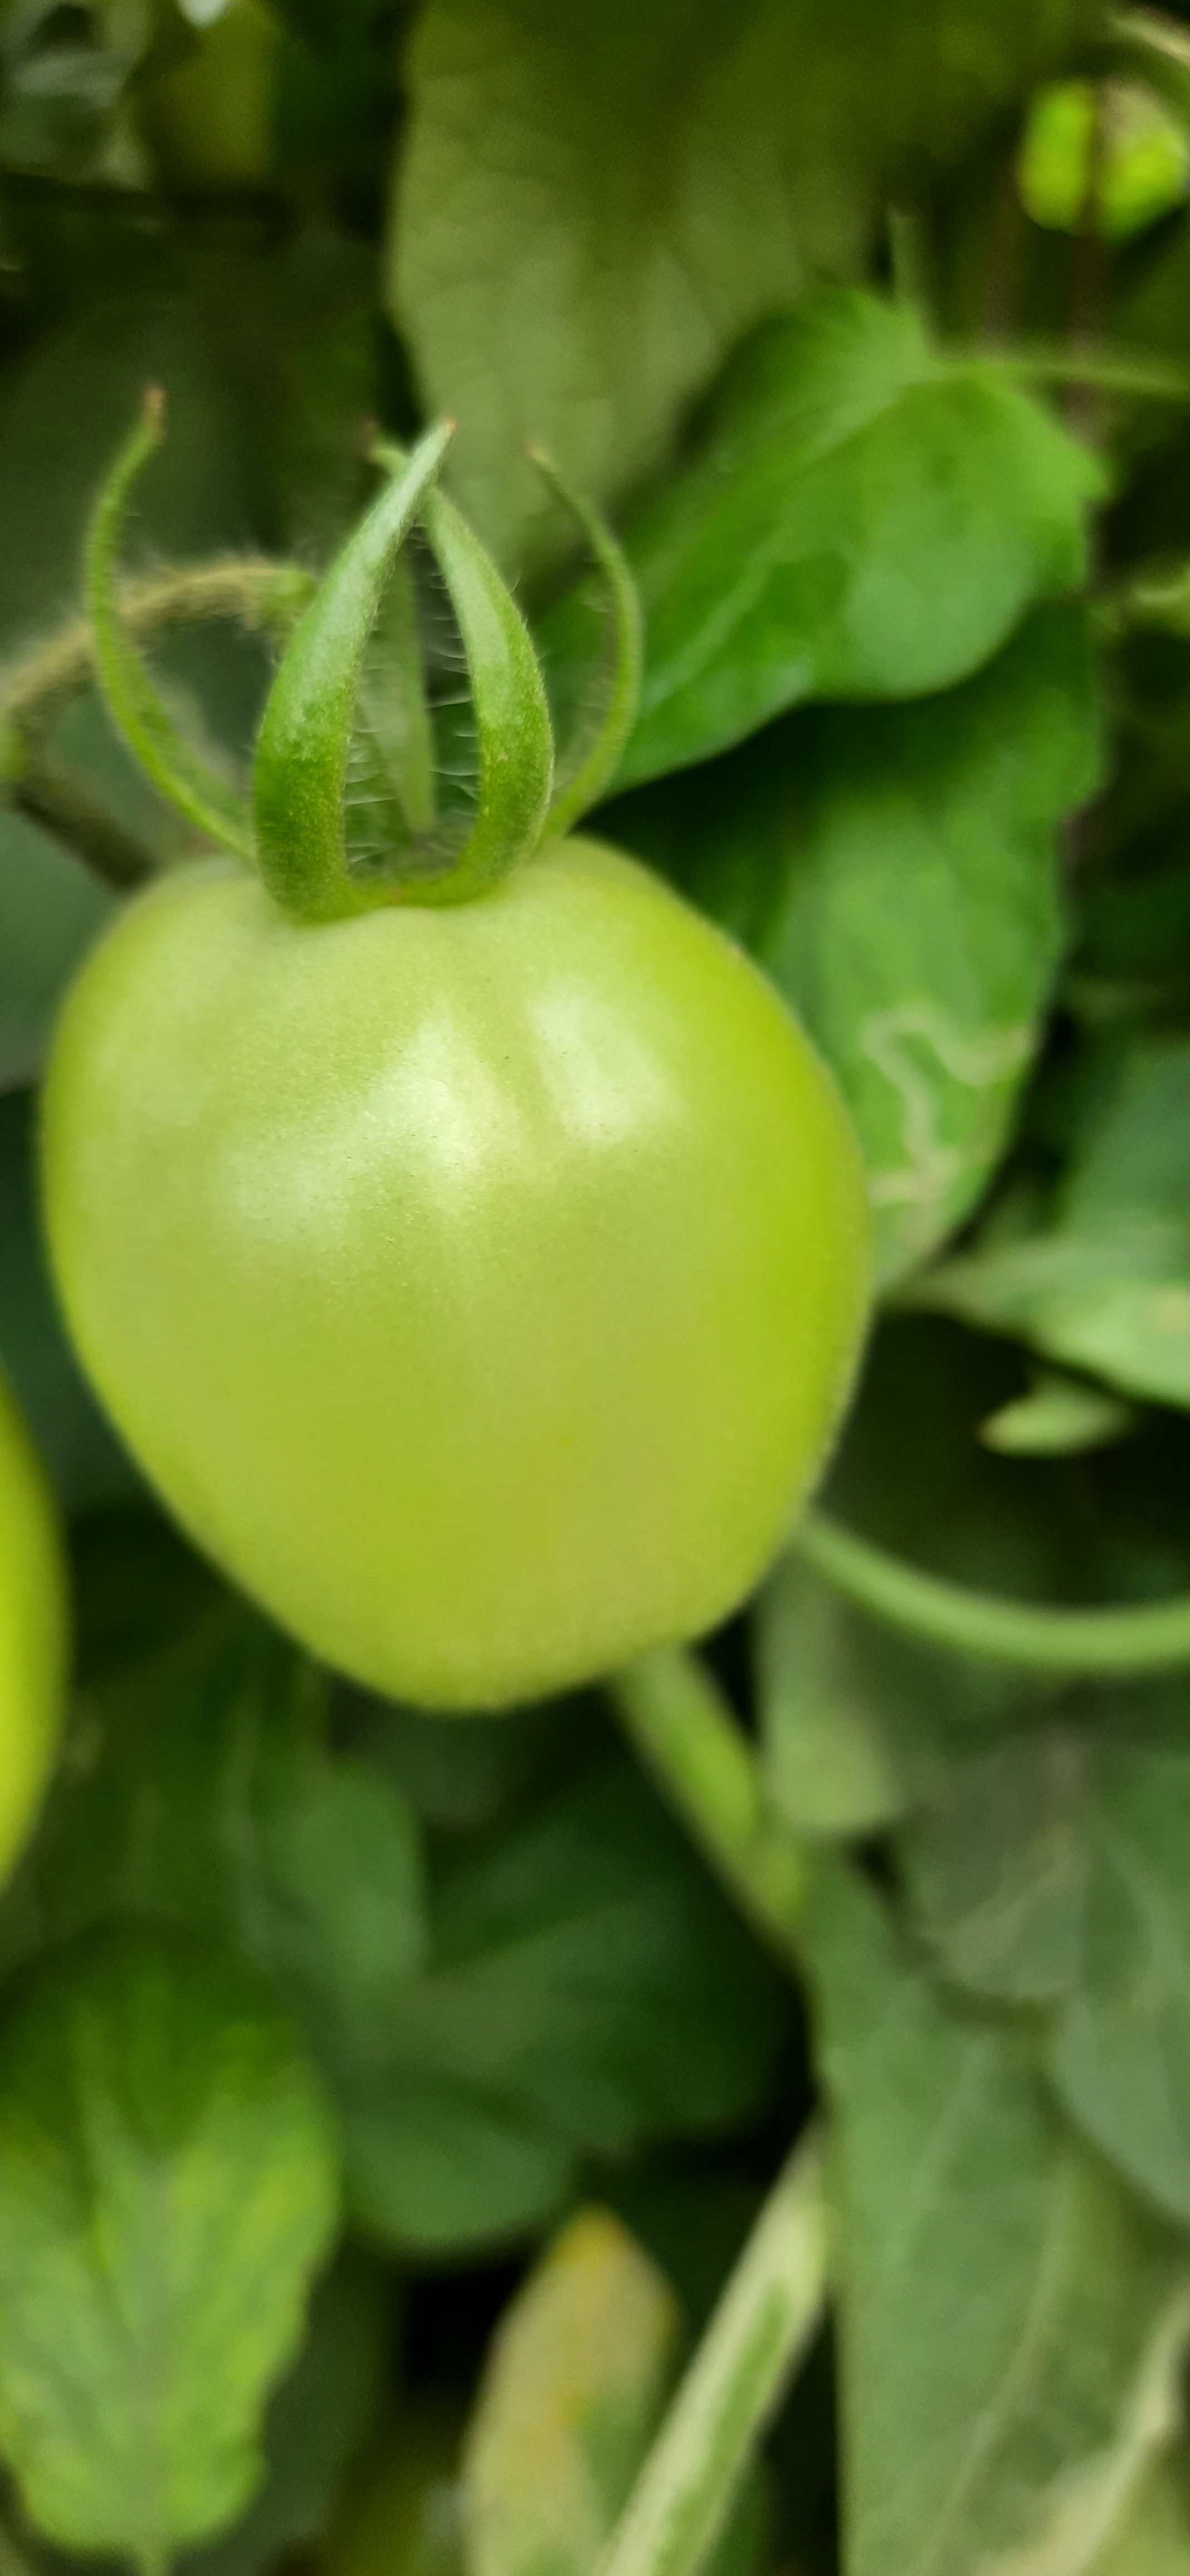raw_tomato: (38, 764, 889, 1786)
